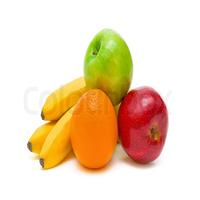apple: (77, 25, 156, 101), (120, 80, 171, 177)
banane: (23, 75, 82, 168)
orange: (71, 81, 120, 175)
